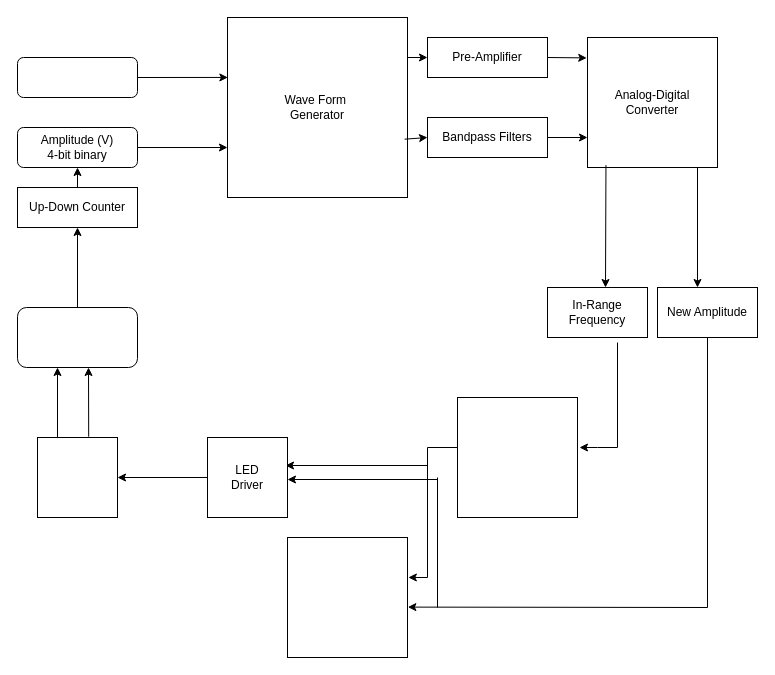
Image size: 775x675. Some labels were removed from this diagram. The shapes that lost their labels are listed below. From the top down, each one's box as (x1, y1, x2, y2) in pixels, then its label:
(16, 56, 138, 98): Frequency (Hz) 6-bit binary
(16, 306, 138, 368): LED Display
(36, 436, 118, 518): Decoder
(456, 396, 578, 518): Comparator
(286, 536, 408, 658): Timer IC
